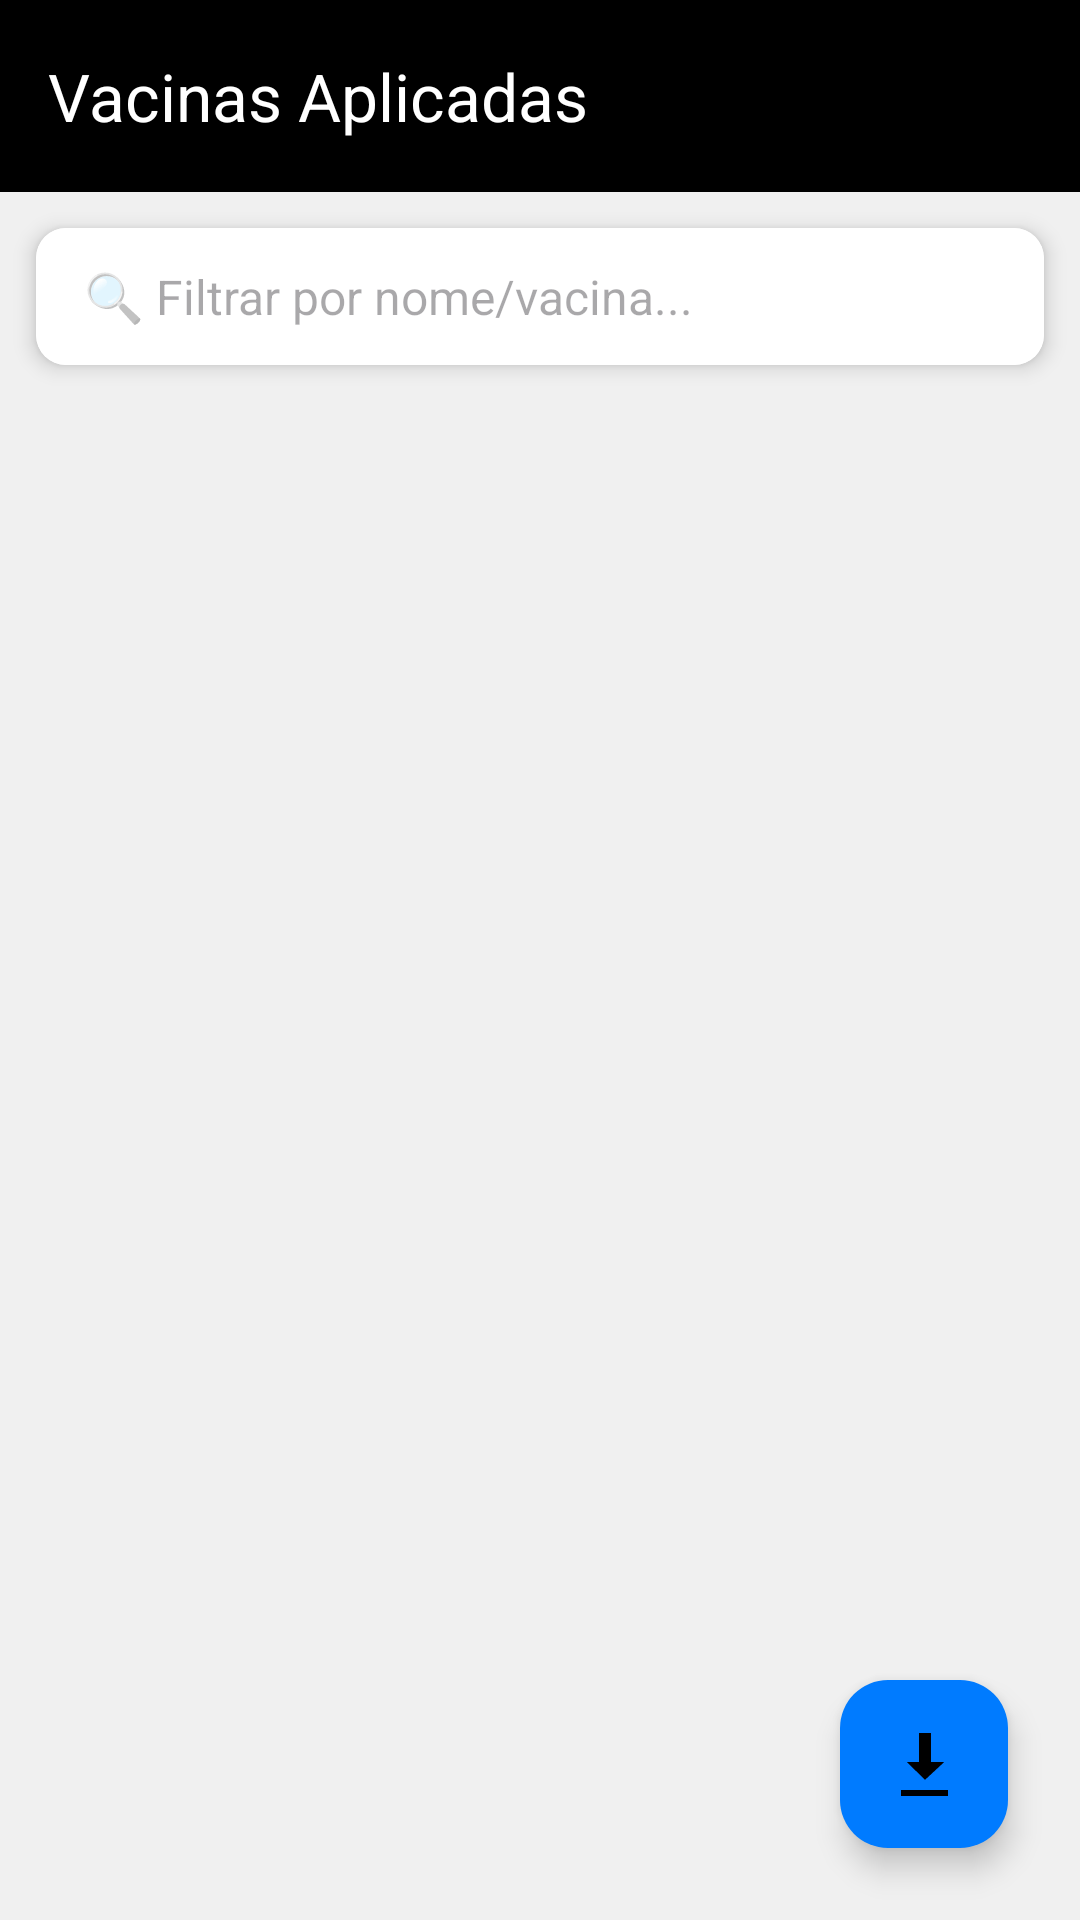

Where to tap for icons on this 1080px×1920px app screen, as [x,y]:
Exportar lista para PDF: [924,1764]
